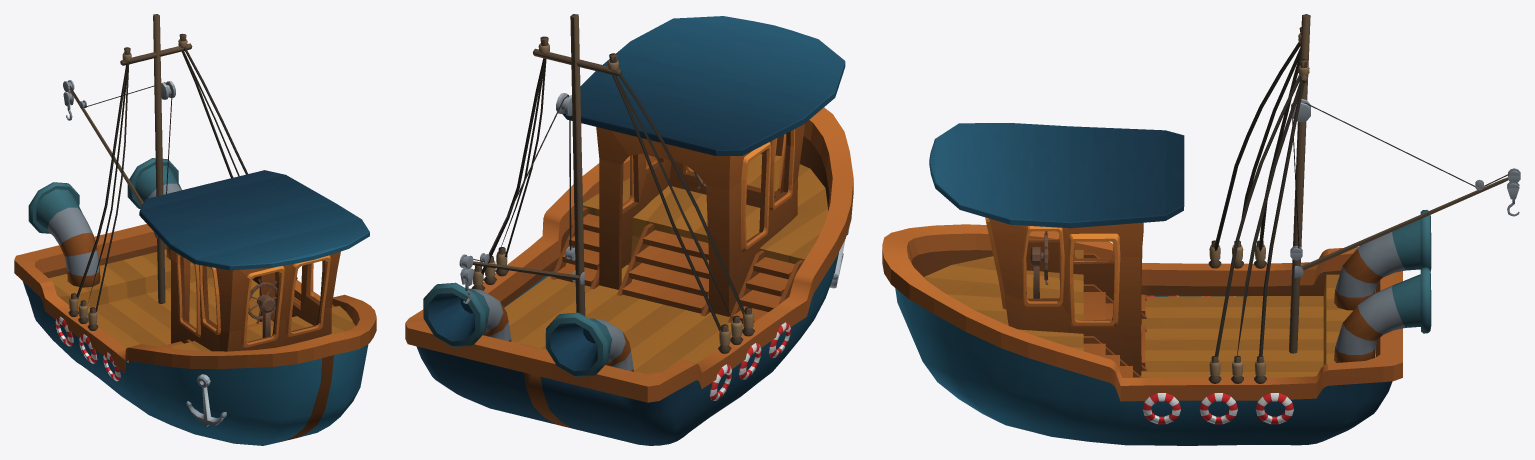
The model's file is fishing boat.fbx.
3 renders of one model, left to right at view 1: azimuth 30°, elevation 25°; view 2: azimuth 150°, elevation 25°; view 3: azimuth 270°, elevation 25°, orthographic. The views are drawn at different scales.
Visible parts, largest first — view 1: fishing_boat; view 2: fishing_boat; view 3: fishing_boat.
Boxes of the visible parts, x1=… form: fishing_boat: x1=14, y1=14, x2=376, y2=445; fishing_boat: x1=405, y1=14, x2=853, y2=445; fishing_boat: x1=882, y1=14, x2=1520, y2=445.
Bounding box in the file's own units: 22.87 × 32.42 × 48.85.
Materials: 1 (1 with a texture image).
